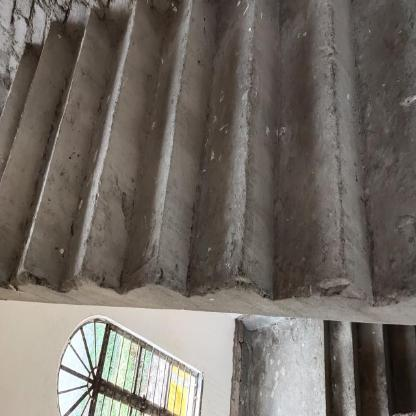stair: (0, 1, 416, 316)
